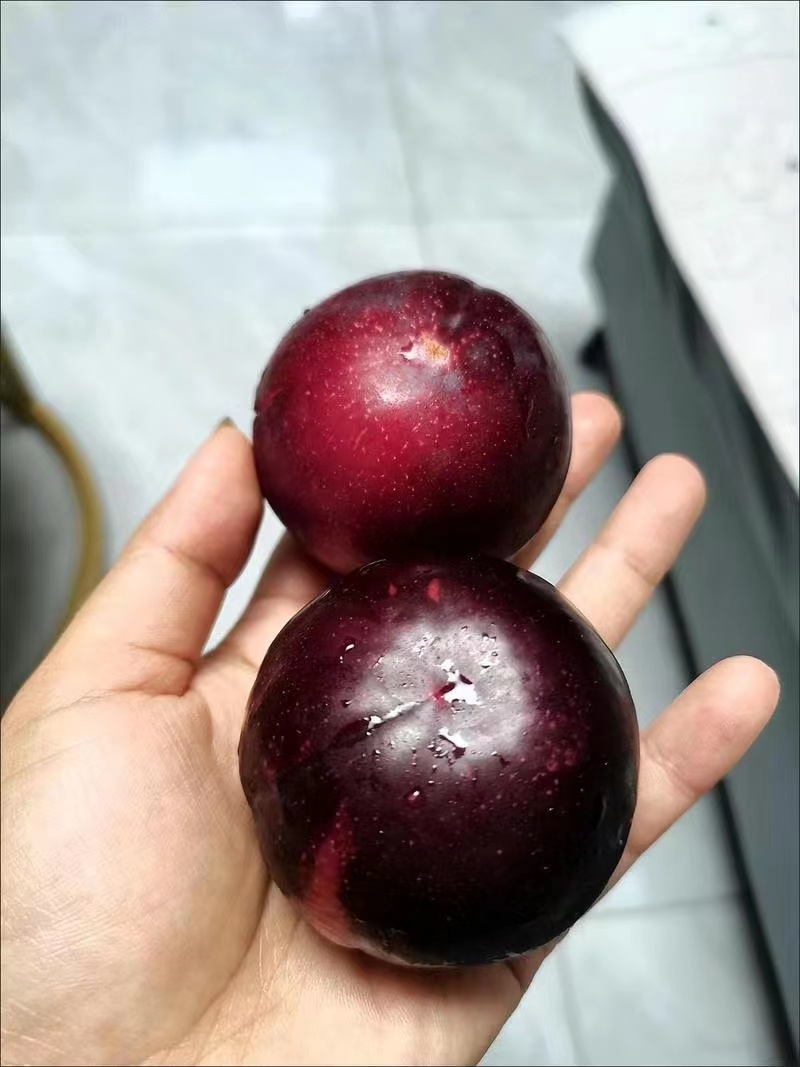plum_A: (237, 556, 639, 971), (253, 270, 572, 583)
